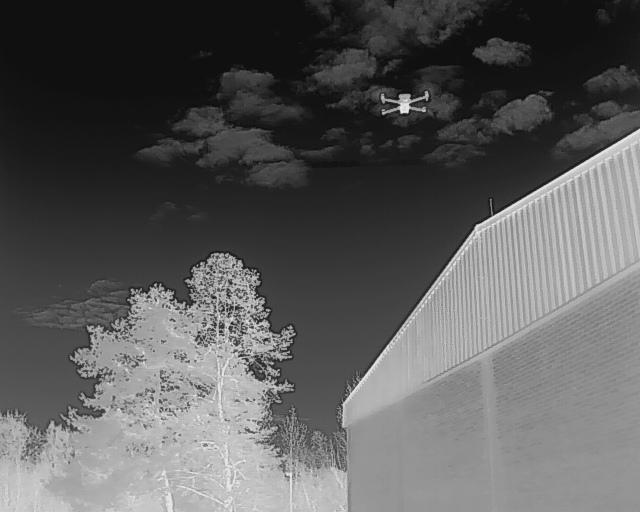drone: (369, 82, 435, 132)
